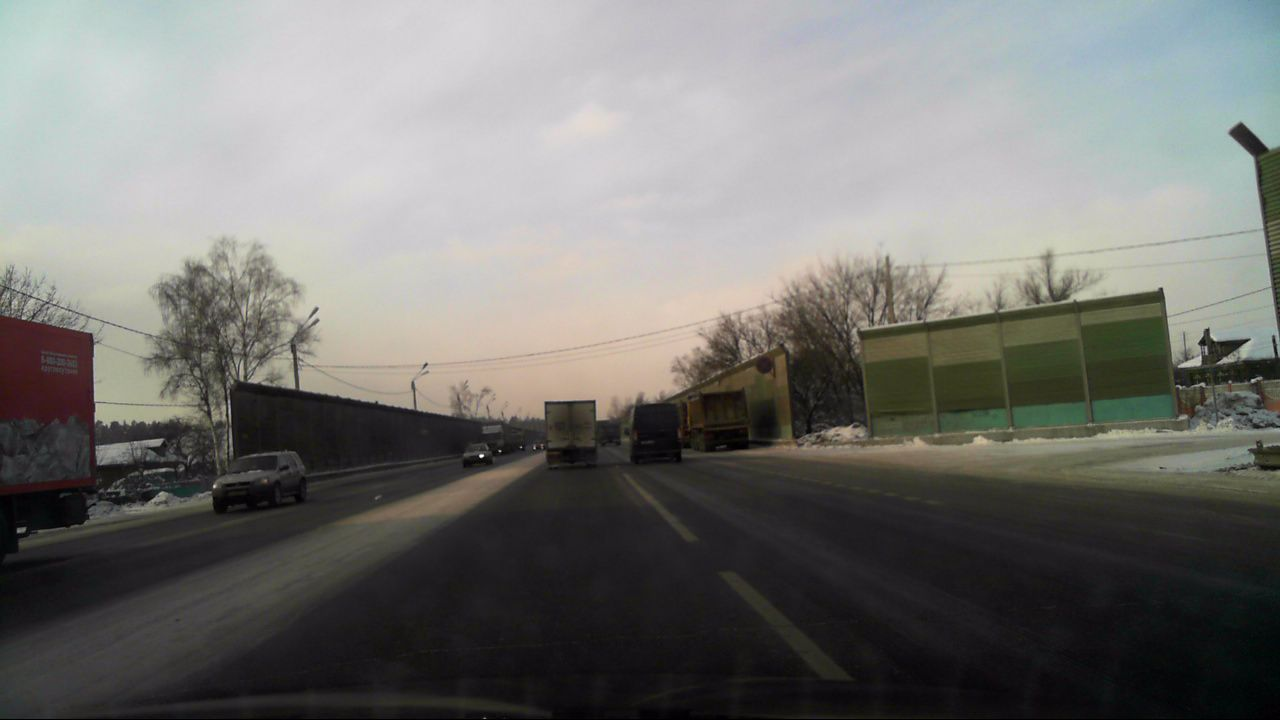No Parking: (756, 355, 773, 372)
